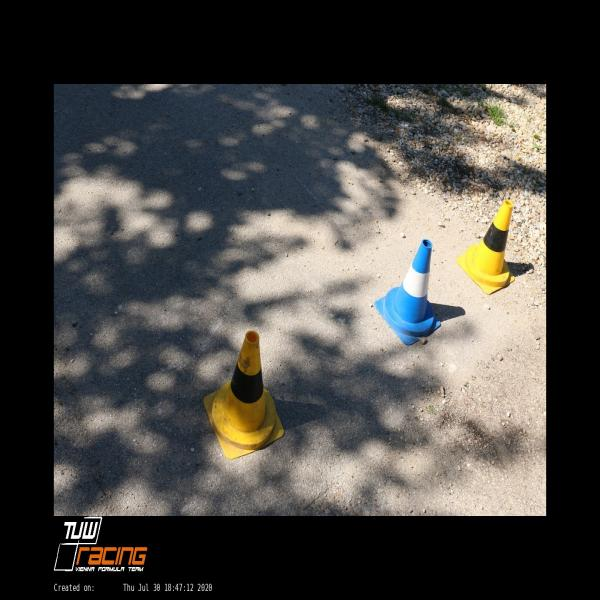blue_cone: (374, 239, 442, 345)
yellow_cone: (203, 331, 284, 459), (457, 199, 515, 294)
